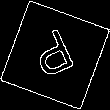P_SE: (27, 24, 83, 86)
